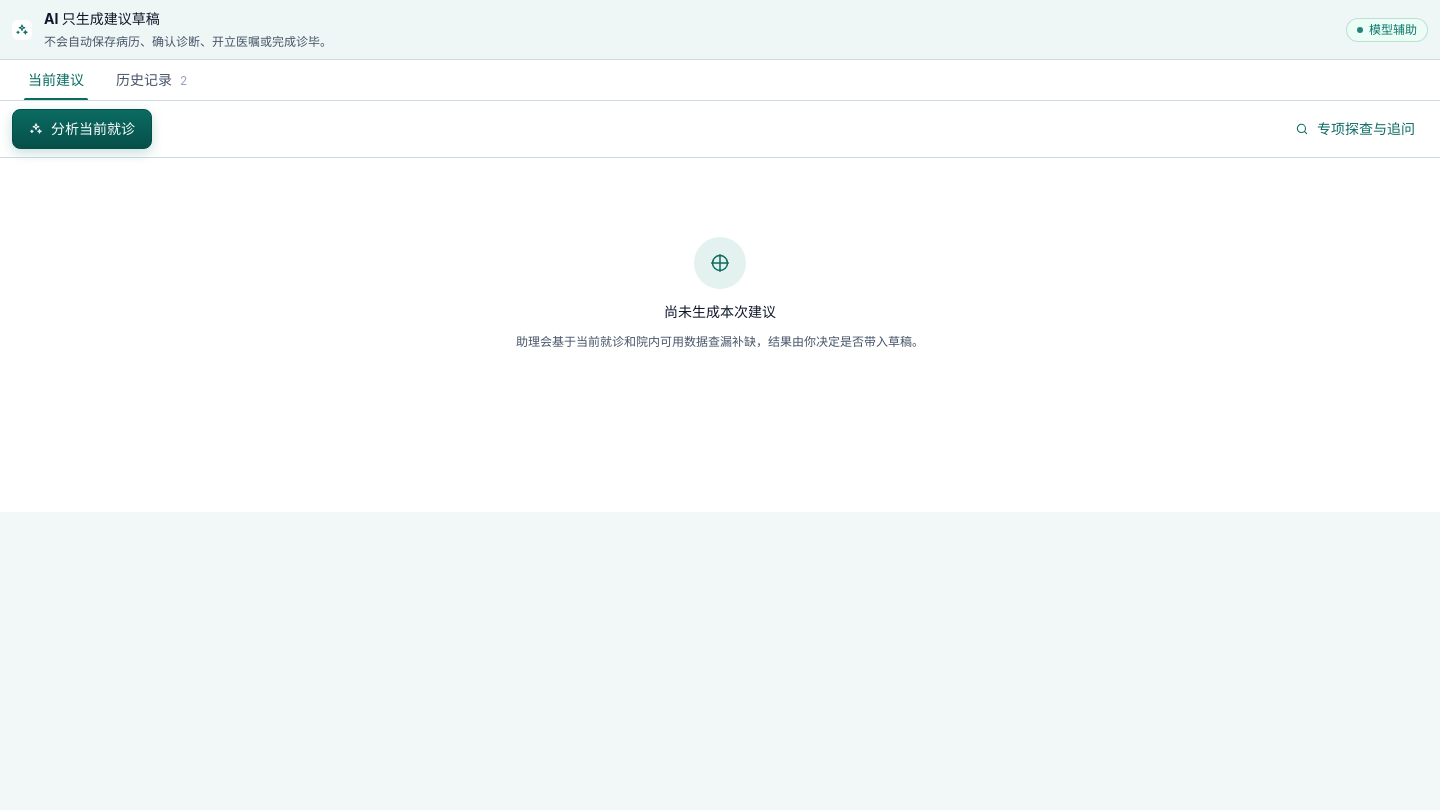
Test: ClinicalAiAssistantPanel suggestion history › shows immutable chronological results and never exposes adoption commands
The image size is (1440, 810).
Click the tab "历史记录 2": (152, 80) [100,60,203,100]
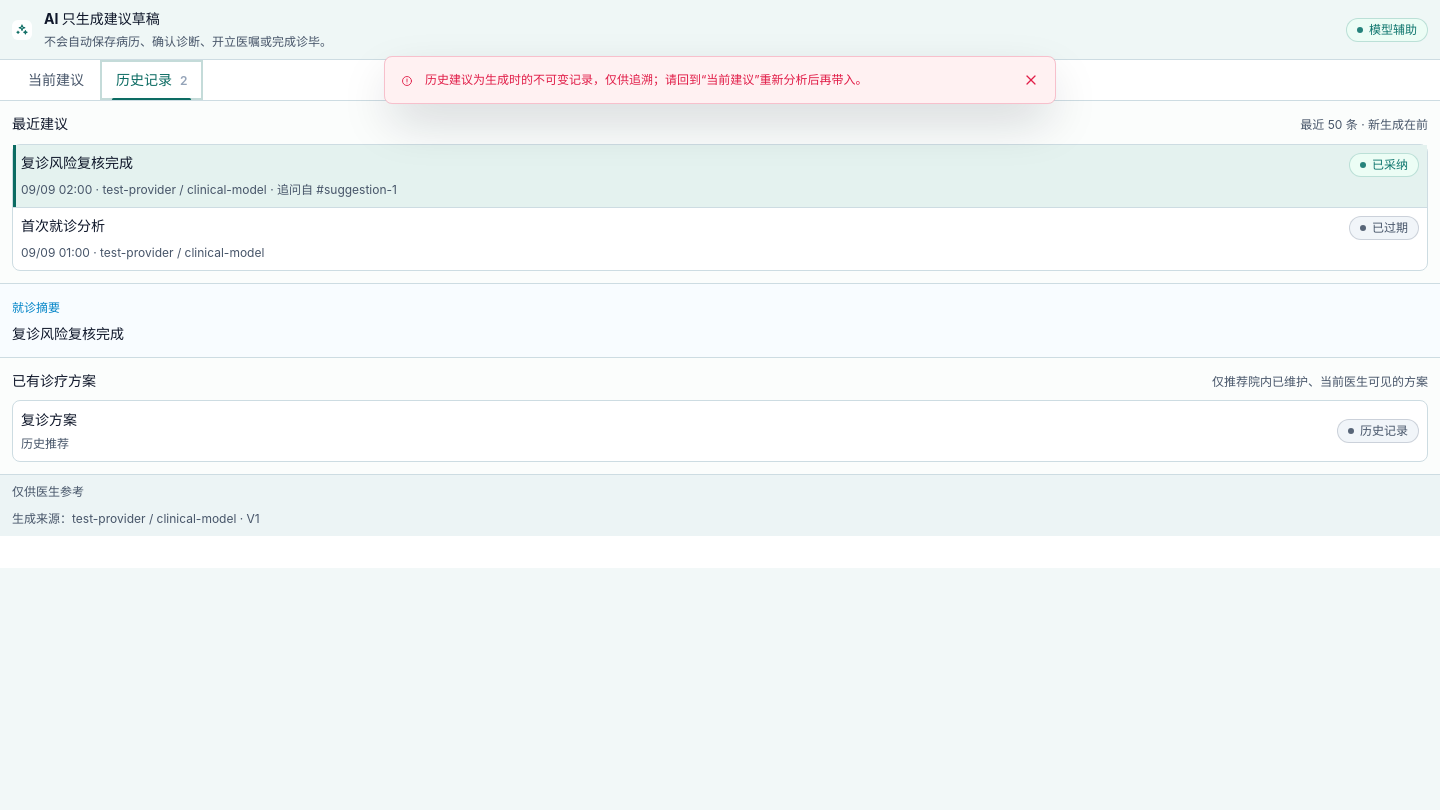
Expected: the text "复诊风险复核完成" below "最近建议" is shown, [21,154,133,171]
Expected: the text "追问自 #suggestion-1" is shown, [267,182,397,197]
Expected: the text "已采纳" is shown, [1349,153,1419,177]
Click the button "首次就诊分析 已过期 09/09 01:00 · test-provider / clinical-model": (63, 225) [13,208,1427,270]
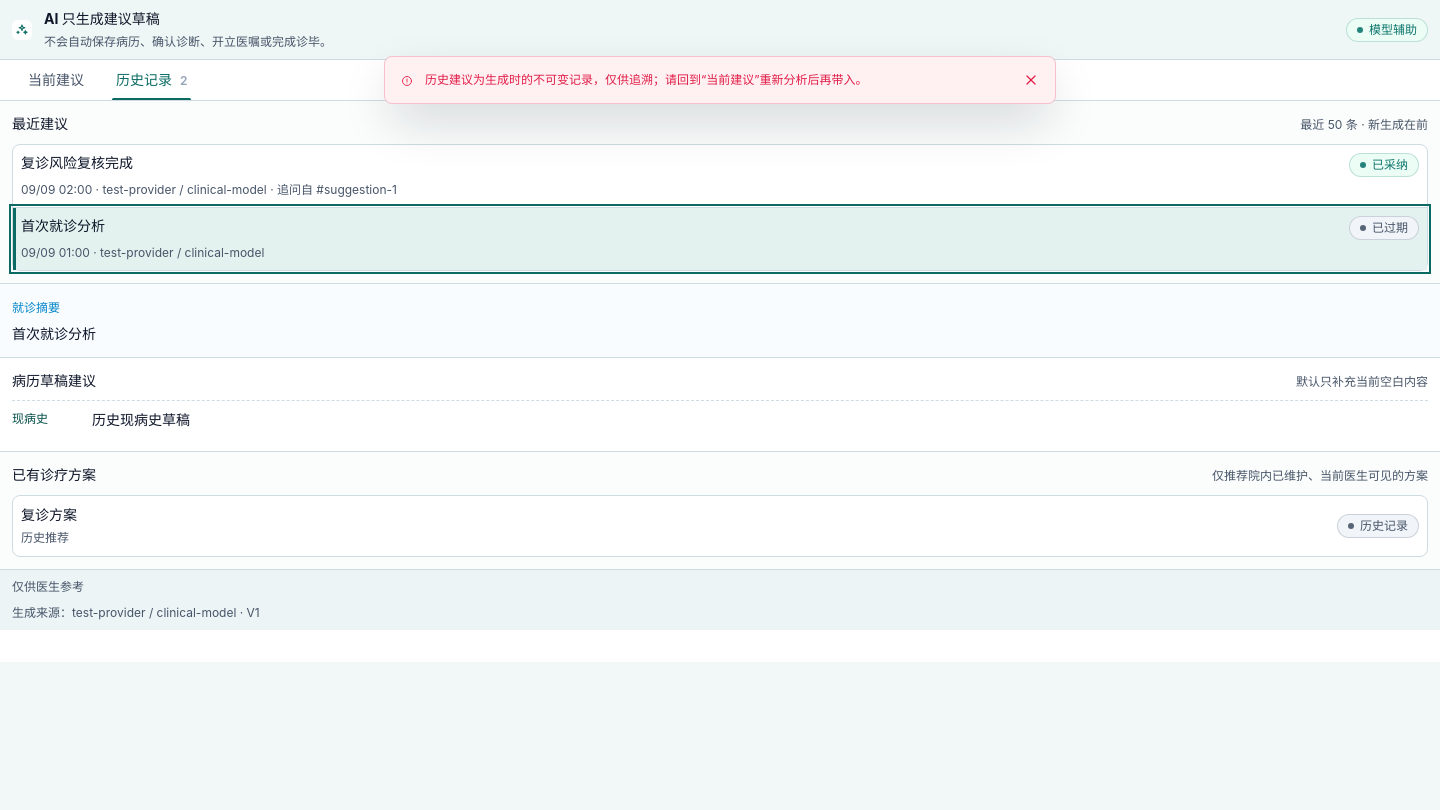
Expected: the text "已过期" is shown, [1349,216,1419,240]
Expected: the text "历史建议为生成时的不可变记录，仅供追溯；请回到“当前建议”重新分析后再带入。" is shown, [425,72,868,87]
Expected: the text "历史现病史草稿" is shown, [92,412,190,428]
